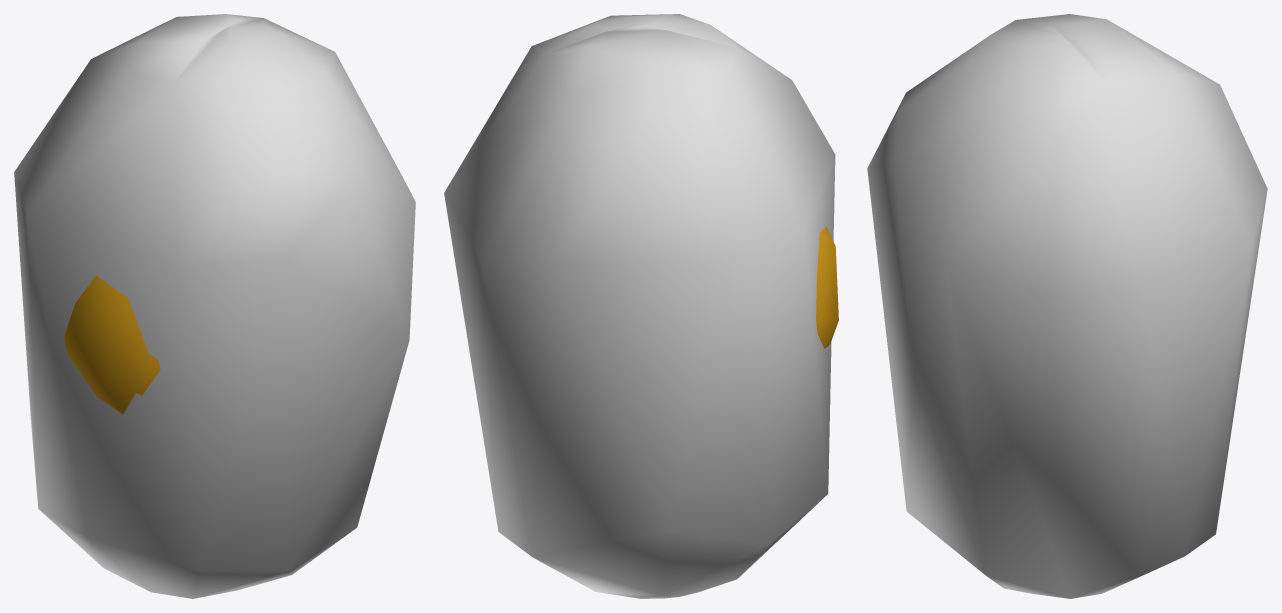
File: InsideEgg.fbx
3 views of the same model, side by side, from view 1: azimuth 30°, elevation 25°; view 2: azimuth 150°, elevation 25°; view 3: azimuth 270°, elevation 25° (orthographic).
Visible parts, largest first — view 1: Eggwhite, Eggyellow; view 2: Eggwhite, Eggyellow; view 3: Eggwhite.
Part boxes in pixels (x1=…): Eggwhite: x1=14, y1=14, x2=415, y2=598; Eggyellow: x1=64, y1=275, x2=160, y2=414; Eggwhite: x1=444, y1=14, x2=835, y2=598; Eggyellow: x1=816, y1=226, x2=838, y2=348; Eggwhite: x1=867, y1=14, x2=1267, y2=598.
Size of the model in its own units: 7.04 by 10.57 by 7.01.
